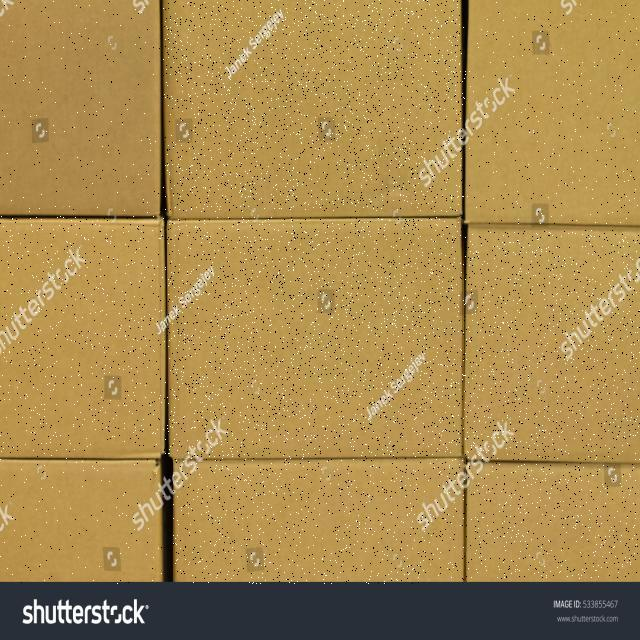BoxFace: (168, 217, 466, 457), (163, 0, 463, 212), (463, 230, 640, 460), (0, 216, 166, 456), (463, 0, 640, 224), (174, 458, 466, 584), (0, 0, 160, 215), (0, 452, 164, 584), (466, 463, 638, 579)
